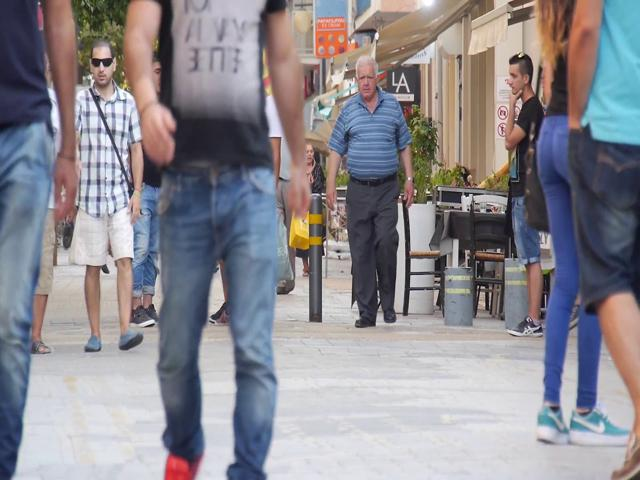shoe: (569, 410, 630, 447), (533, 404, 569, 444), (508, 315, 543, 337), (129, 306, 154, 327), (117, 333, 143, 350), (83, 335, 103, 352)
